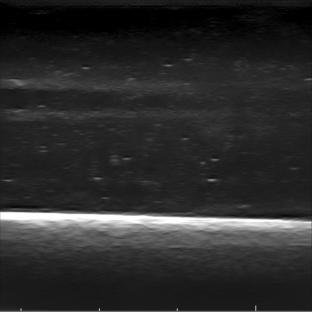vessel: (0, 76, 185, 124)
